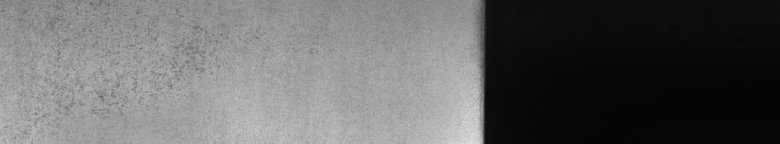ib: (34, 4, 222, 119)
